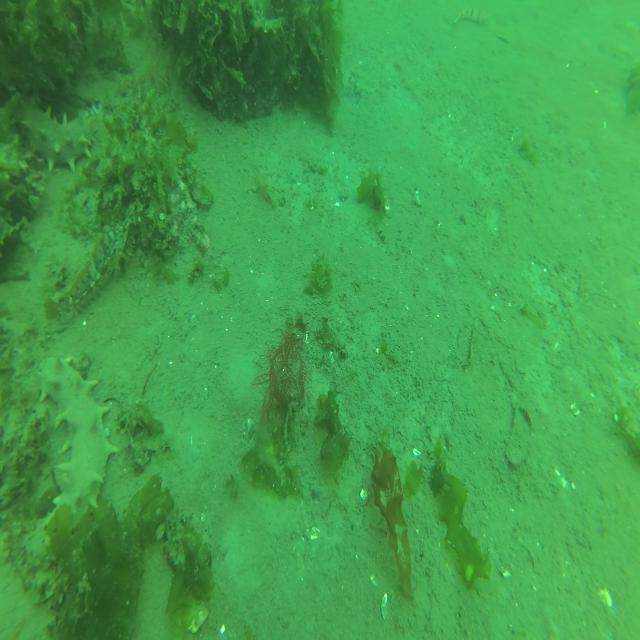holothurian: (21, 353, 121, 576), (10, 99, 104, 174)
